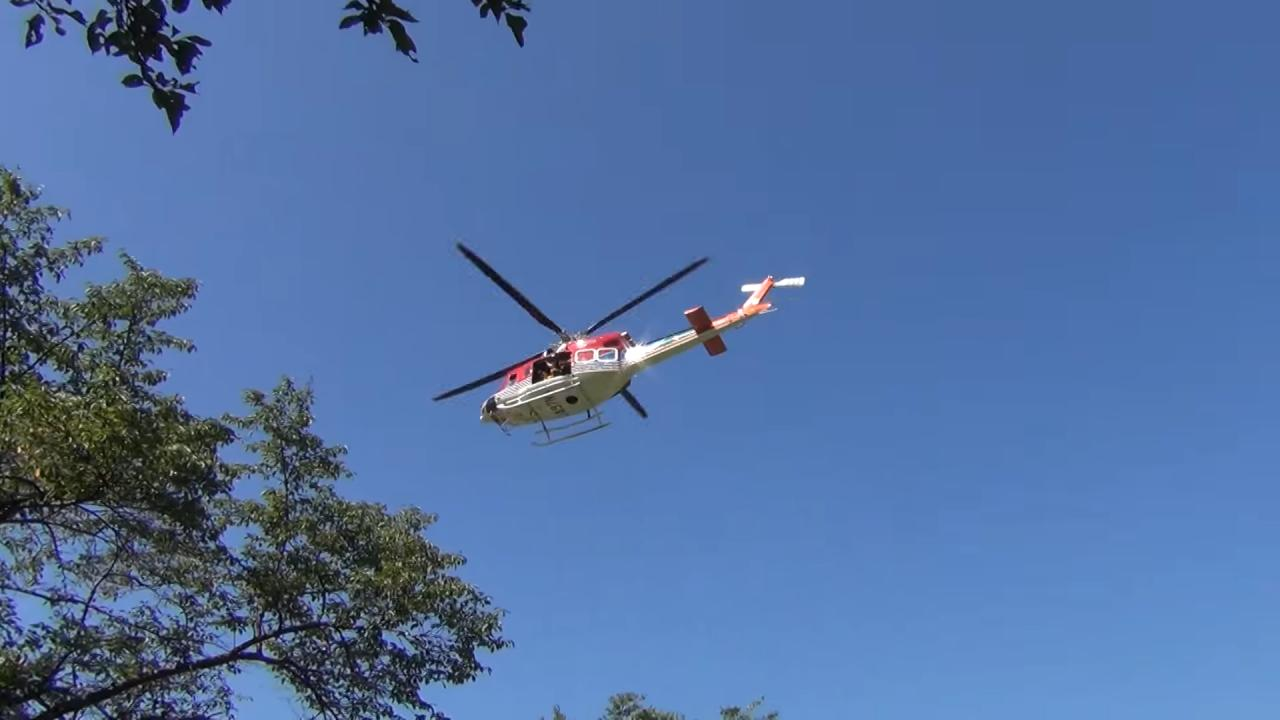Helicopter: (371, 202, 861, 482)
